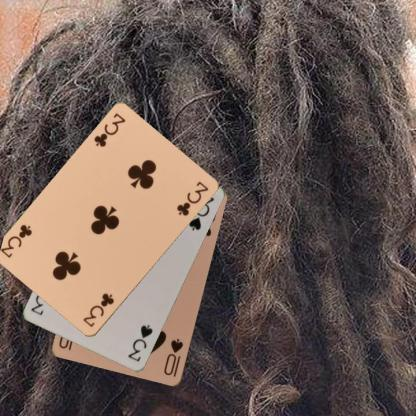10s: (161, 336, 185, 378)
3c: (91, 110, 127, 149), (80, 290, 116, 328)
3s: (126, 322, 154, 364)
